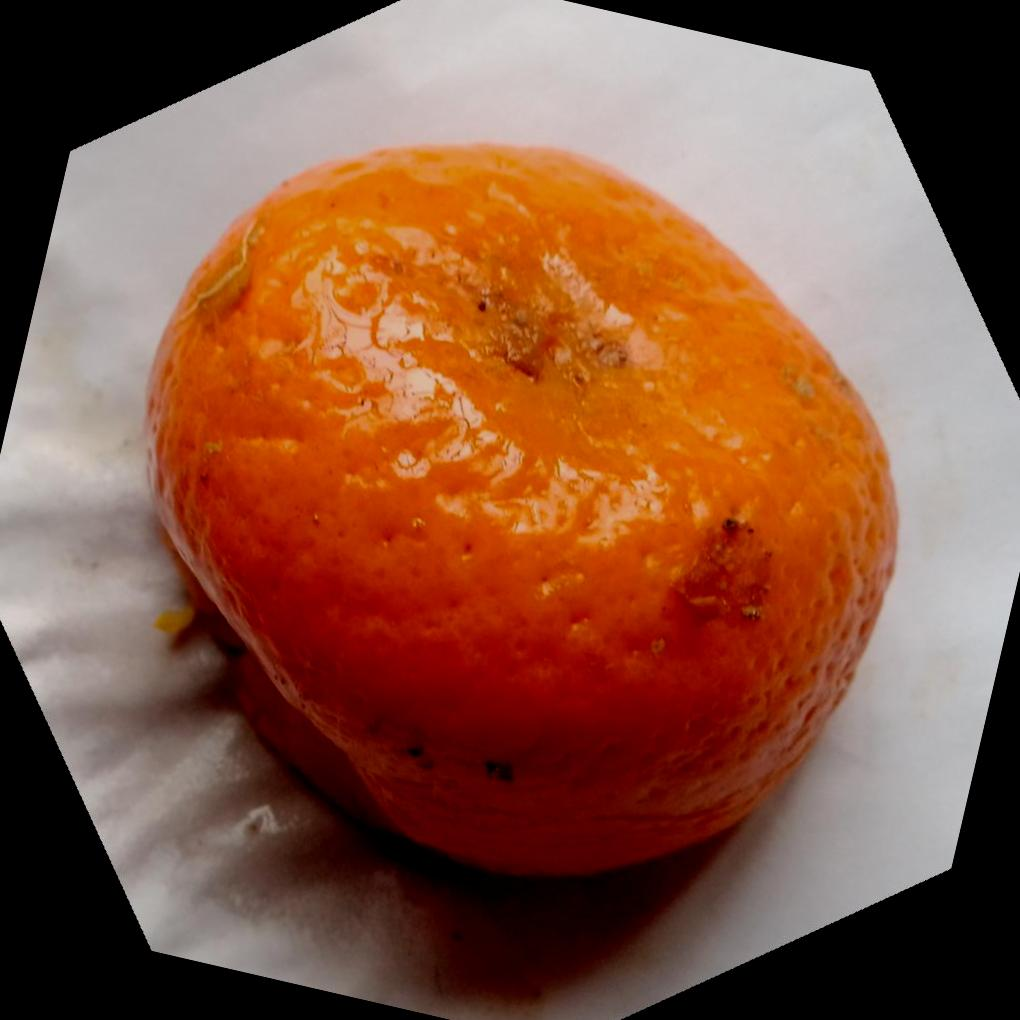FreshOrange: (146, 142, 902, 883)
